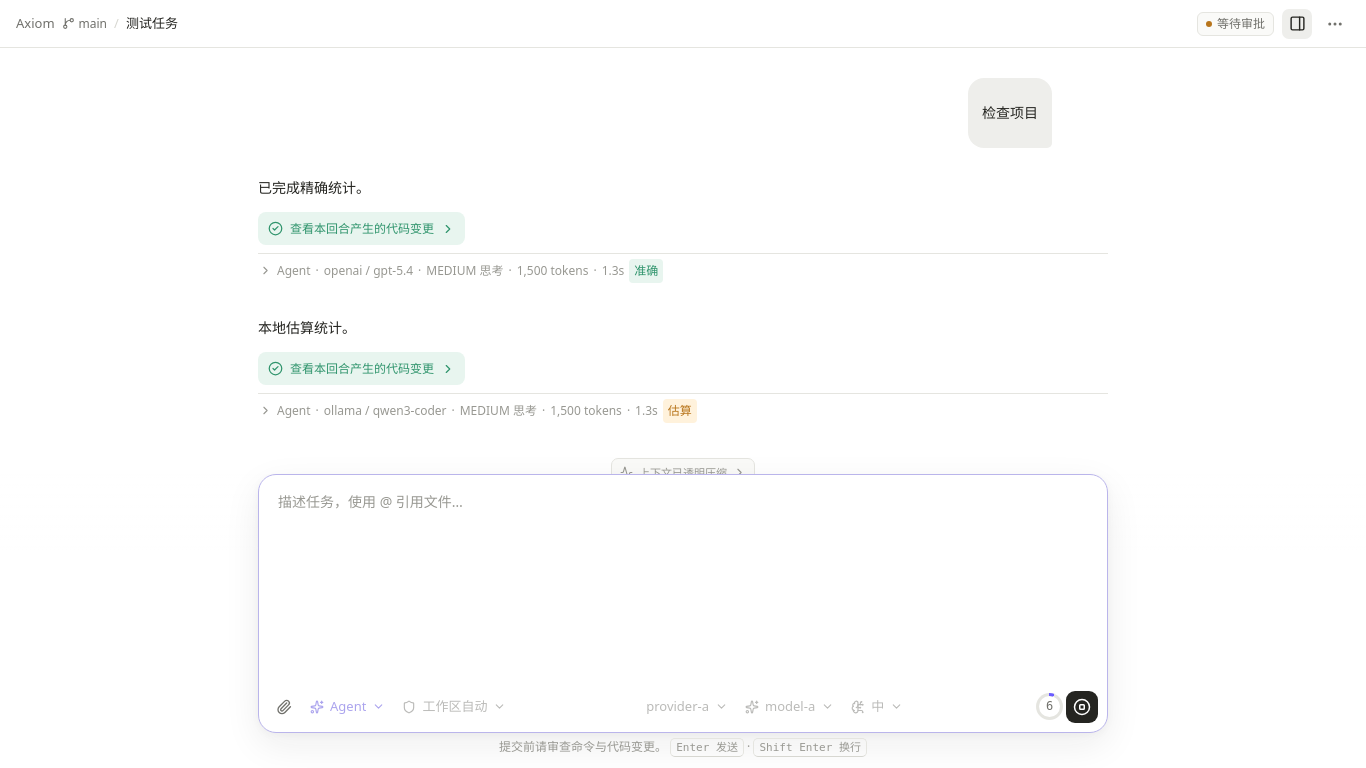
Scenario: Conversation › 明确区分准确和估算 Usage，并展开完整指标
The width and height of the screenshot is (1366, 768).
Expected: the text "准确" is shown, [629, 259, 663, 283]
Expected: the text "估算" is shown, [663, 399, 697, 423]
Click the button "openai / gpt-5.4" at {"x": 461, "y": 271}, box [258, 254, 664, 288]
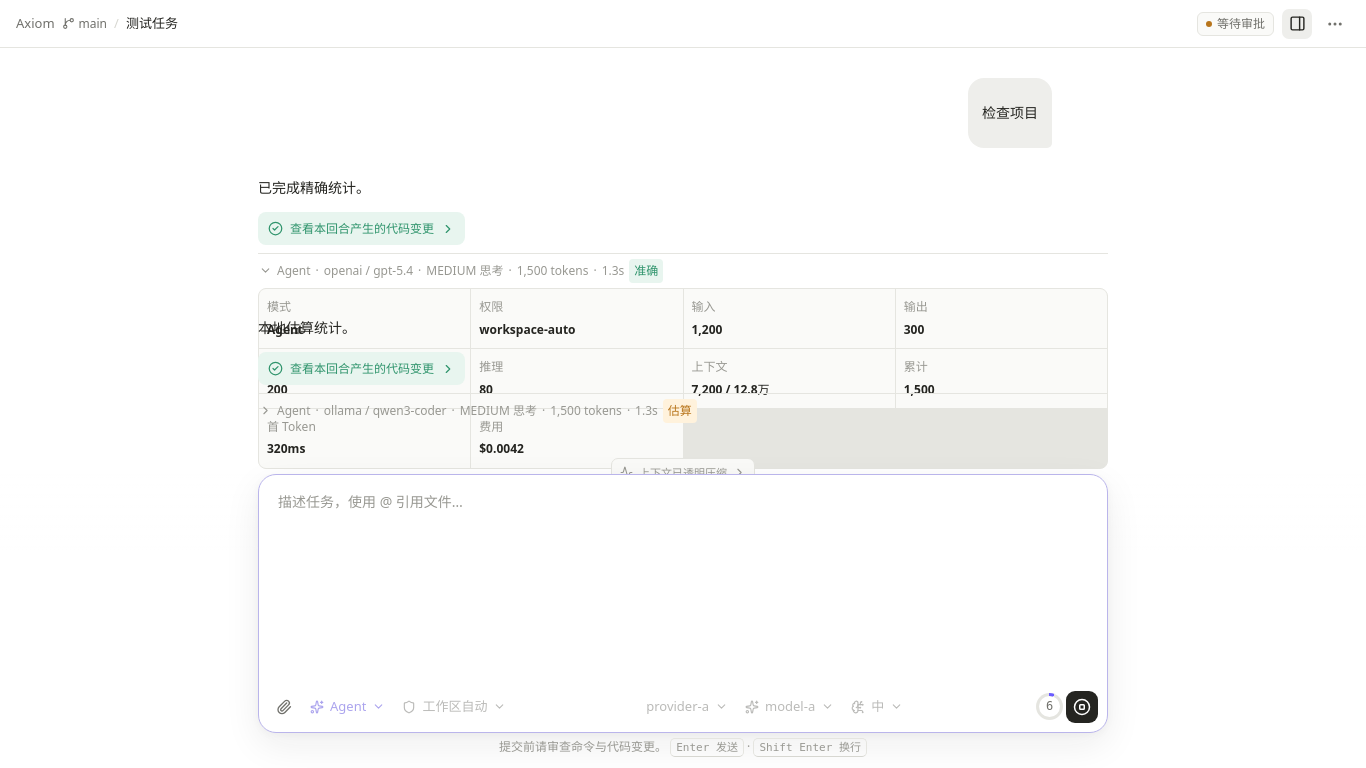
Expected: the text "首 Token" is shown, [267, 418, 316, 435]
Expected: the text "$0.0042" is shown, [479, 440, 524, 458]
Expected: the text "7,200 / 12.8万" is shown, [692, 381, 770, 398]
